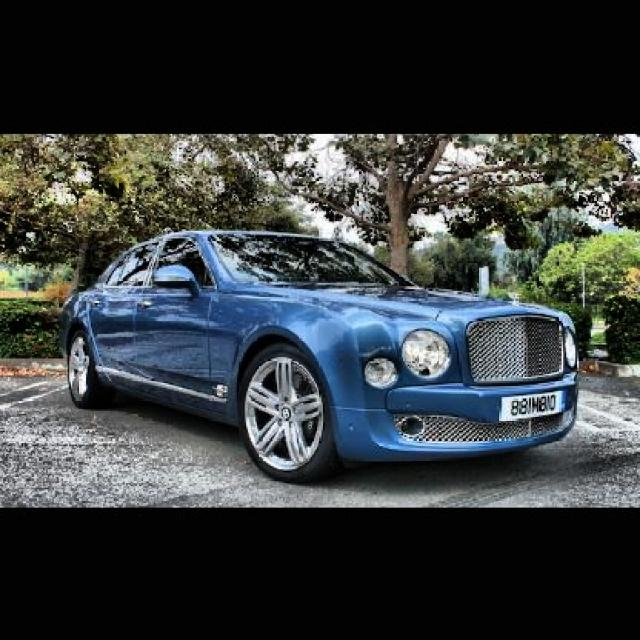blue: (11, 222, 593, 460)
